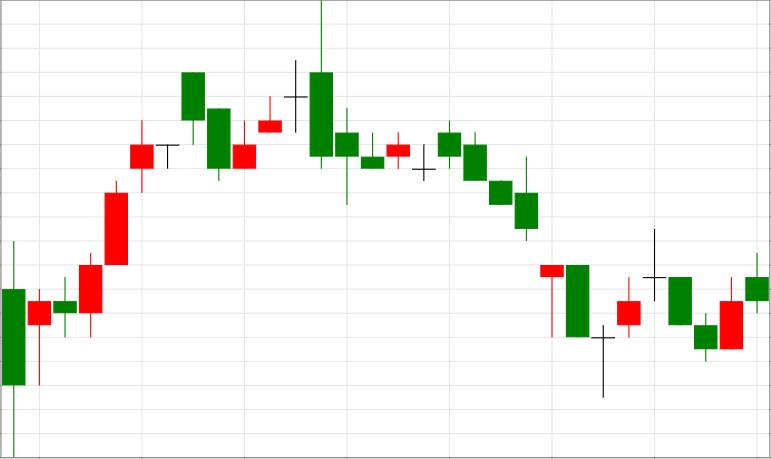morning_star_rise: (438, 121, 640, 398)
